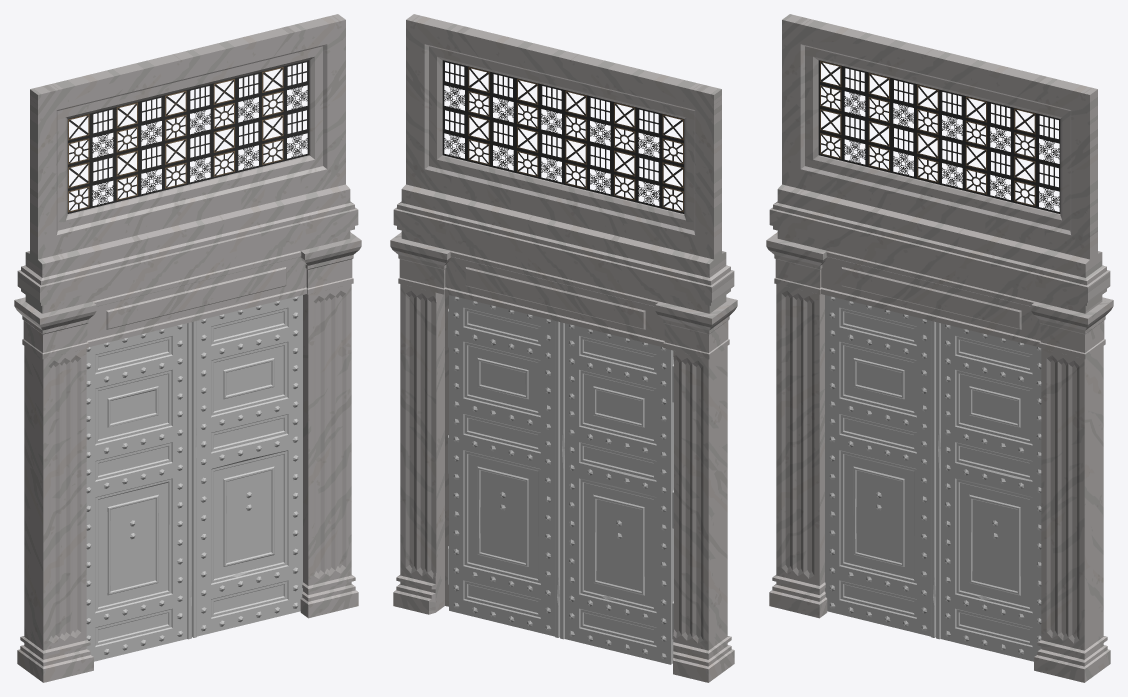
Rendered from SM_Bld_Door_Monument_01.fbx.
The picture shows the model from 3 angles, left to right: view 1: azimuth 30°, elevation 25°; view 2: azimuth 150°, elevation 25°; view 3: azimuth 330°, elevation 25°; orthographic projection.
Parts seen in each view (by area): view 1: SM_Bld_Door_Monument_01, SM_Bld_Door_Monument_01_Door_R, SM_Bld_Door_Monument_01_Door_L; view 2: SM_Bld_Door_Monument_01, SM_Bld_Door_Monument_01_Door_L, SM_Bld_Door_Monument_01_Door_R; view 3: SM_Bld_Door_Monument_01, SM_Bld_Door_Monument_01_Door_L, SM_Bld_Door_Monument_01_Door_R.
Part boxes in pixels (x1,y1,x2,y2): SM_Bld_Door_Monument_01: (14,14,361,682); SM_Bld_Door_Monument_01_Door_R: (192,295,302,637); SM_Bld_Door_Monument_01_Door_L: (86,322,191,661); SM_Bld_Door_Monument_01: (390,14,737,682); SM_Bld_Door_Monument_01_Door_L: (560,322,673,664); SM_Bld_Door_Monument_01_Door_R: (449,295,559,637); SM_Bld_Door_Monument_01: (766,14,1113,682); SM_Bld_Door_Monument_01_Door_L: (825,295,935,637); SM_Bld_Door_Monument_01_Door_R: (936,322,1041,661).
Size of the model in its own units: 522 by 900 by 73.71.
